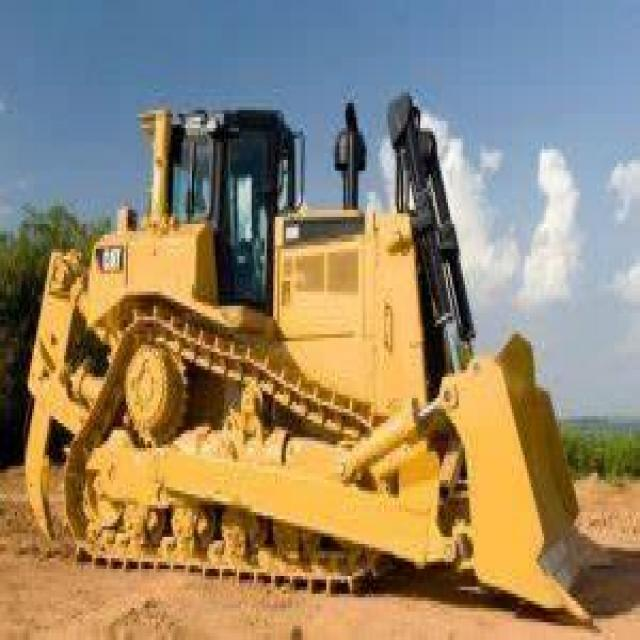Bulldozer: (22, 50, 600, 615)
